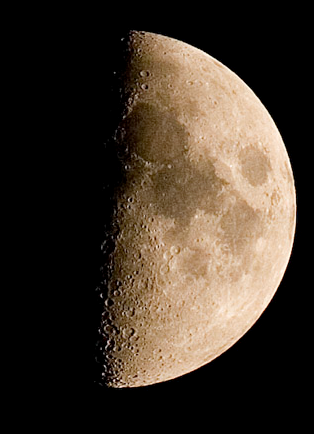crater: (233, 139, 276, 192), (135, 62, 157, 80), (121, 324, 140, 343), (167, 241, 185, 258), (155, 261, 174, 277), (181, 272, 196, 288), (195, 130, 207, 145), (183, 77, 194, 92), (138, 82, 154, 92), (165, 79, 177, 92), (211, 99, 221, 112), (193, 233, 202, 246), (159, 173, 170, 182), (165, 301, 173, 309)
